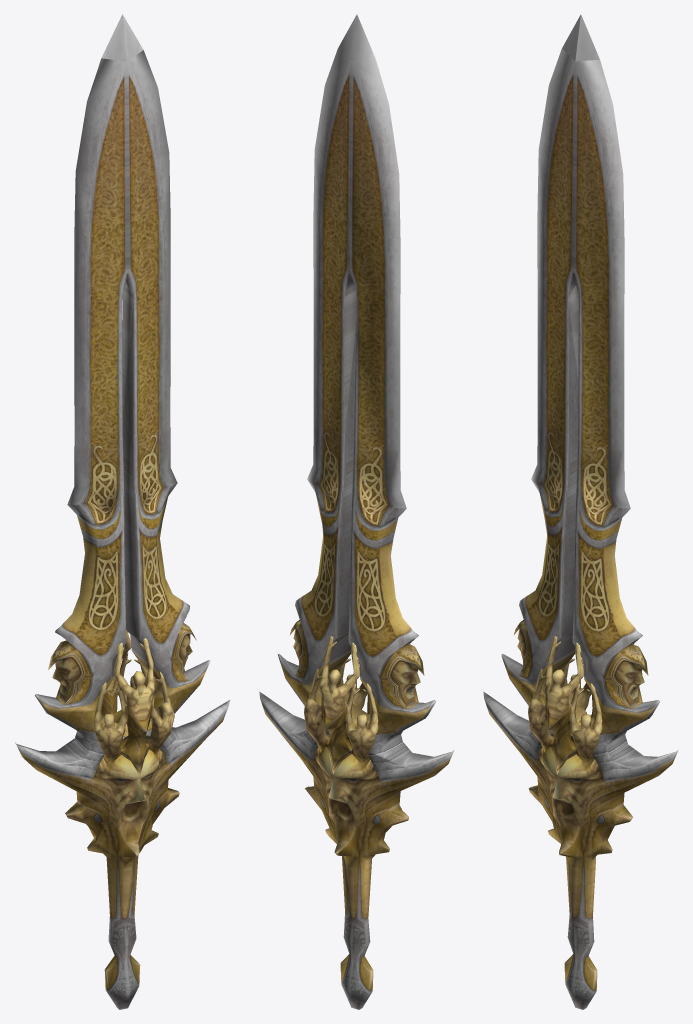
File: Espada_Olympus.glb
The picture shows the model from 3 angles, left to right: view 1: azimuth 30°, elevation 25°; view 2: azimuth 150°, elevation 25°; view 3: azimuth 330°, elevation 25°; orthographic projection.
Parts seen in each view (by area): view 1: Espada_Olympus; view 2: Espada_Olympus; view 3: Espada_Olympus.
Part boxes in pixels (box(x1,y1,x2,y2)): Espada_Olympus: box(15, 14, 230, 1009); Espada_Olympus: box(259, 14, 454, 1009); Espada_Olympus: box(483, 14, 678, 1009).
Bounding box in the file's own units: 0.2801 × 1.29 × 0.1335.
Materials: 1 (1 with a texture image).
